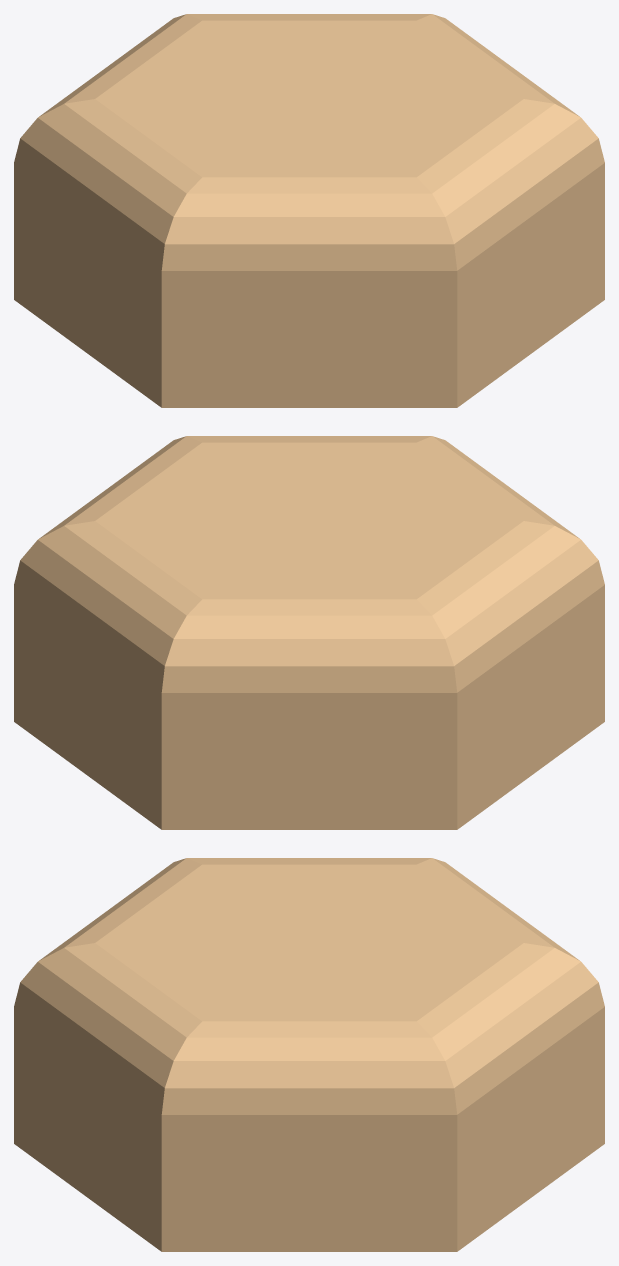
Rendered from Arkanoid_Assets_Cream.fbx.
3 views of the same model, one above another, from view 1: azimuth 30°, elevation 25°; view 2: azimuth 150°, elevation 25°; view 3: azimuth 270°, elevation 25° (orthographic).
Parts seen in each view (by area): view 1: Puntos04; view 2: Puntos04; view 3: Puntos04.
Boxes of the visible parts, x1,y1,x2,y2 form: Puntos04: (14, 14, 604, 407); Puntos04: (14, 436, 604, 829); Puntos04: (14, 858, 604, 1251).
Size of the model in its own units: 346 by 150 by 400.
